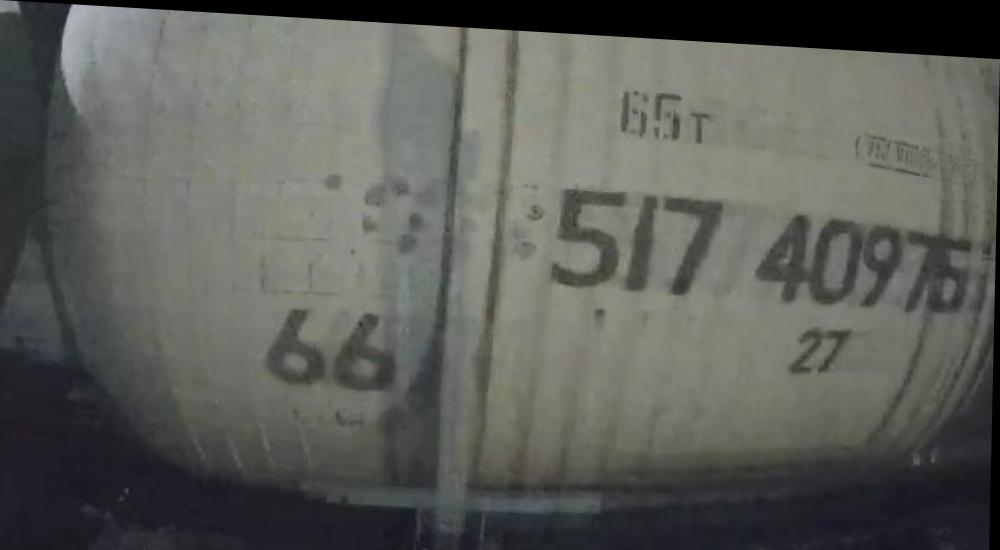Wagon-number: (546, 170, 975, 313)
